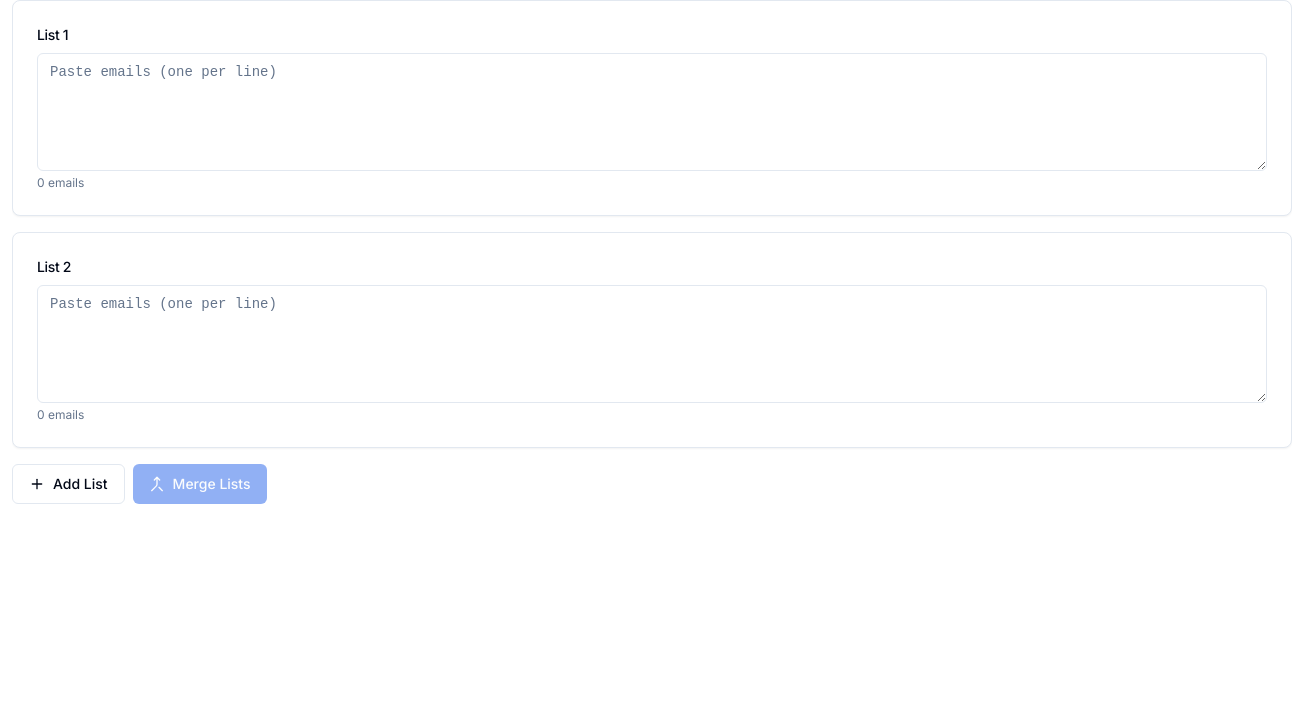
ListMerger › adds a new list when add button is clicked
The width and height of the screenshot is (1292, 720).
Click the button "Add List" at (68, 484), box top-left (12, 464), bottom-right (125, 504)
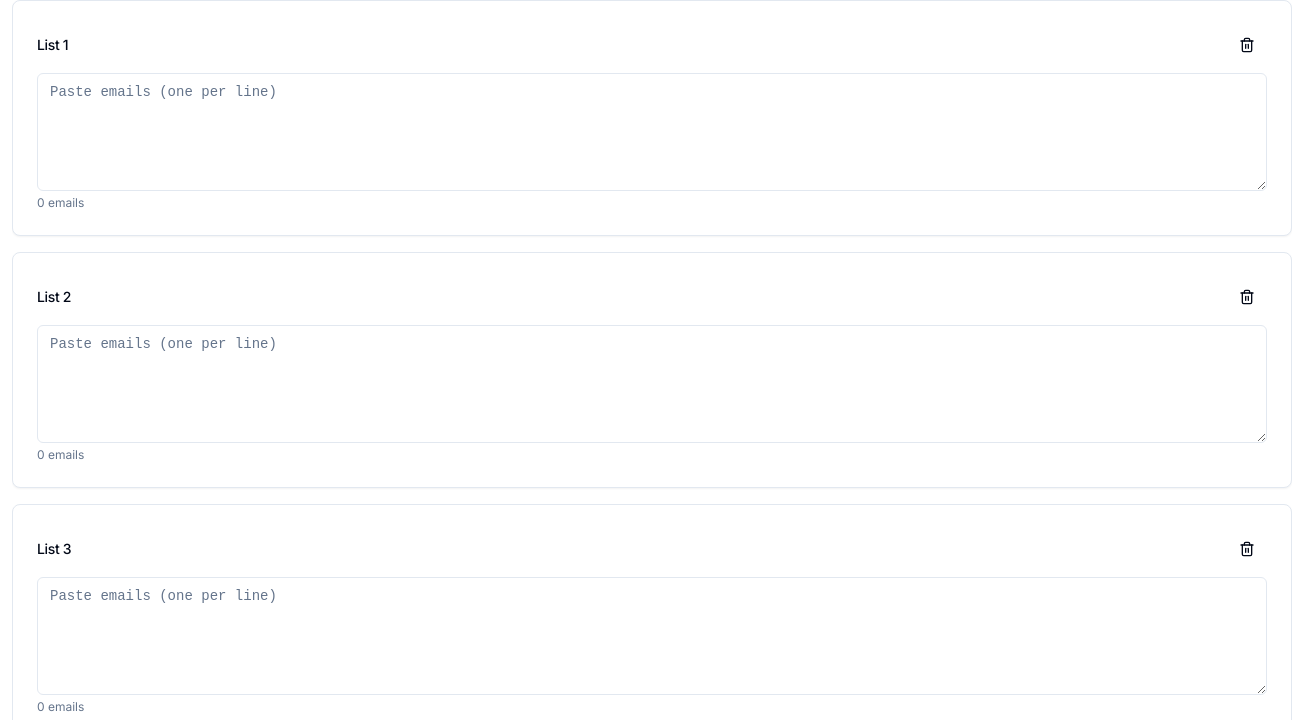
Now the heading "List 3" is shown, box top-left (37, 539), bottom-right (71, 559)
